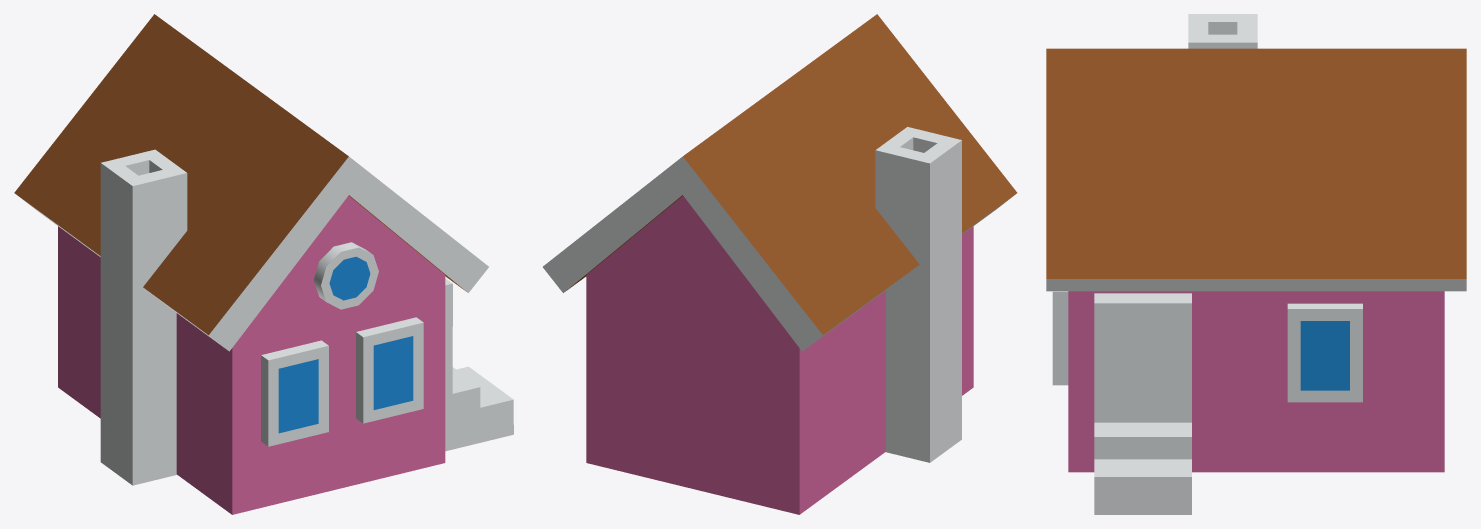
File: house01_s01.FBX
3 renders of one model, left to right at view 1: azimuth 30°, elevation 25°; view 2: azimuth 150°, elevation 25°; view 3: azimuth 270°, elevation 25°, orthographic. The views are drawn at different scales.
Visible parts, largest first — view 1: house01_s01; view 2: house01_s01; view 3: house01_s01.
Part boxes in pixels (box(x1,y1,x2,y2)): house01_s01: box(14, 14, 513, 514); house01_s01: box(543, 14, 1017, 514); house01_s01: box(1046, 14, 1466, 514).
Bounding box in the file's own units: 463 × 462 × 447.
Materials: 1 (1 with a texture image).
